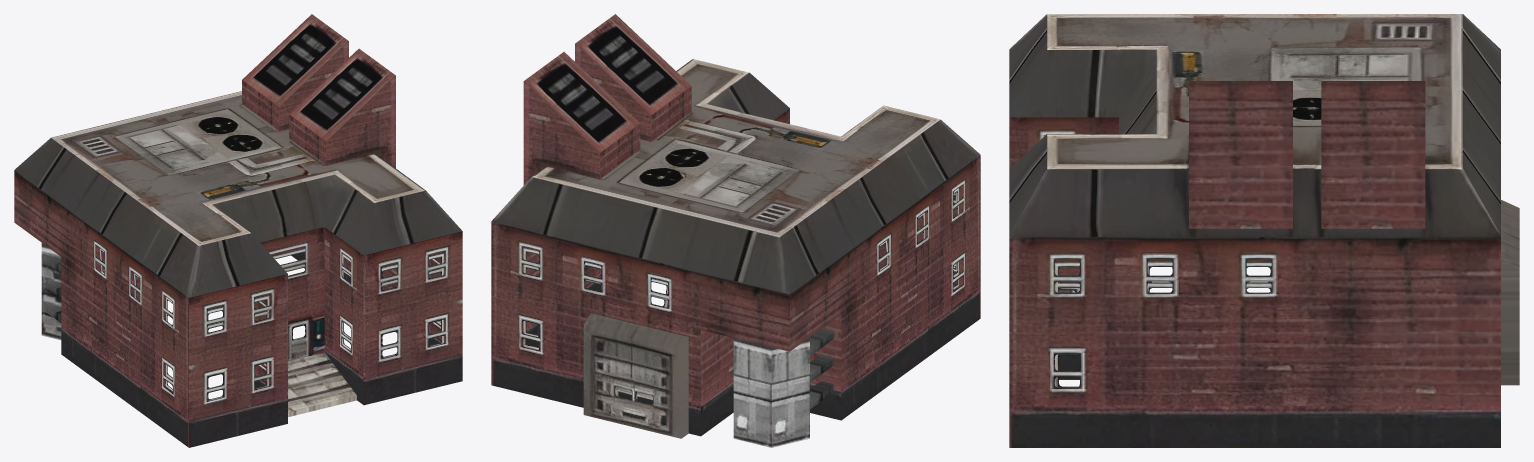
File: heavyindustrial_hdtex.glb
The picture shows the model from 3 angles, left to right: view 1: azimuth 30°, elevation 25°; view 2: azimuth 150°, elevation 25°; view 3: azimuth 270°, elevation 25°; orthographic projection. The views are drawn at different scales.
Visible parts, largest first — view 1: HeavyIndustry, LitWin_HeavyIndustrial; view 2: HeavyIndustry, LitWin_HeavyIndustrial; view 3: HeavyIndustry, LitWin_HeavyIndustrial.
Boxes of the visible parts, x1,y1,x2,y2 form: HeavyIndustry: (14, 14, 462, 447); LitWin_HeavyIndustrial: (96, 246, 444, 400); HeavyIndustry: (491, 14, 980, 447); LitWin_HeavyIndustrial: (522, 185, 963, 400); HeavyIndustry: (1009, 14, 1519, 447); LitWin_HeavyIndustrial: (1054, 259, 1271, 387).
Size of the model in its own units: 16.92 by 15.34 by 19.44.
1 material, 1 textured.
